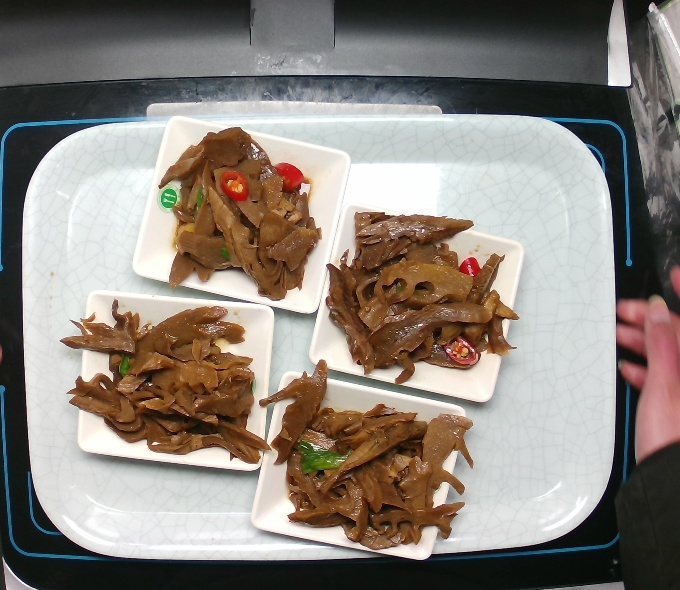wcq-SunGan: (256, 356, 478, 555), (58, 294, 276, 477), (319, 206, 523, 382), (153, 122, 326, 309)
